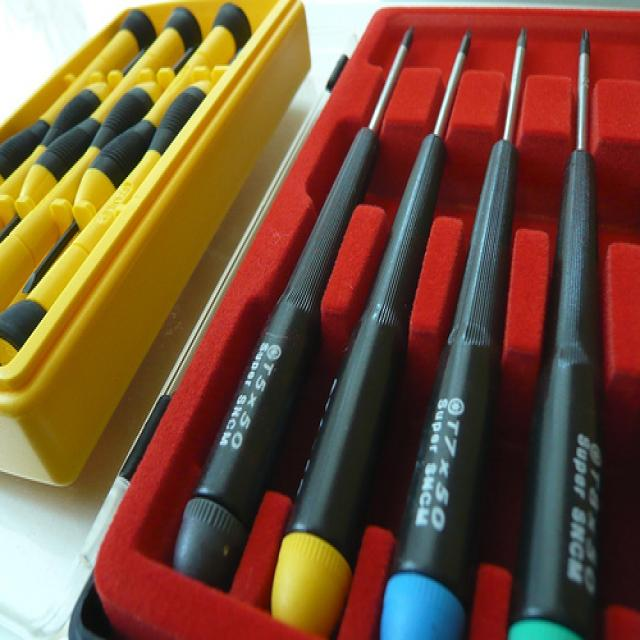screw_driver: (174, 45, 406, 589), (271, 31, 471, 636), (380, 30, 526, 639), (509, 31, 602, 638)
